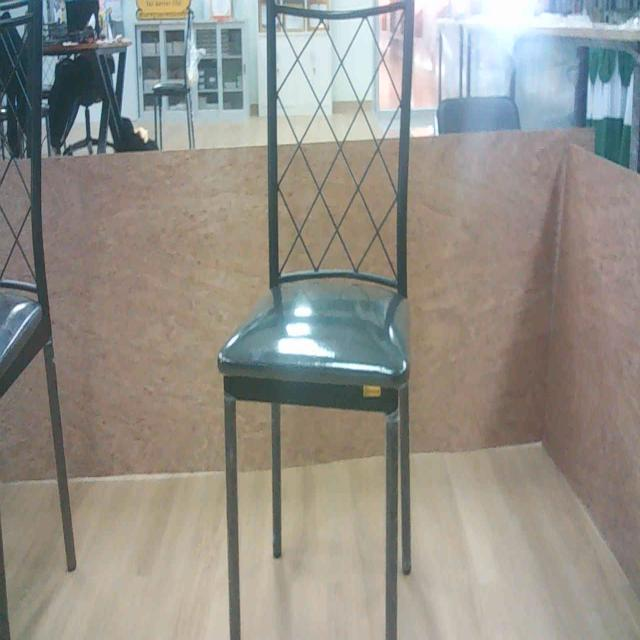emtpy: (209, 0, 424, 640)
